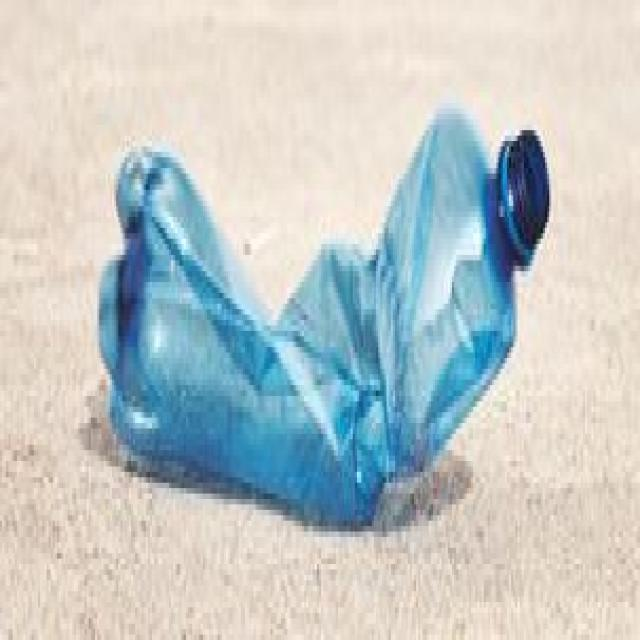general: (95, 98, 551, 526)
